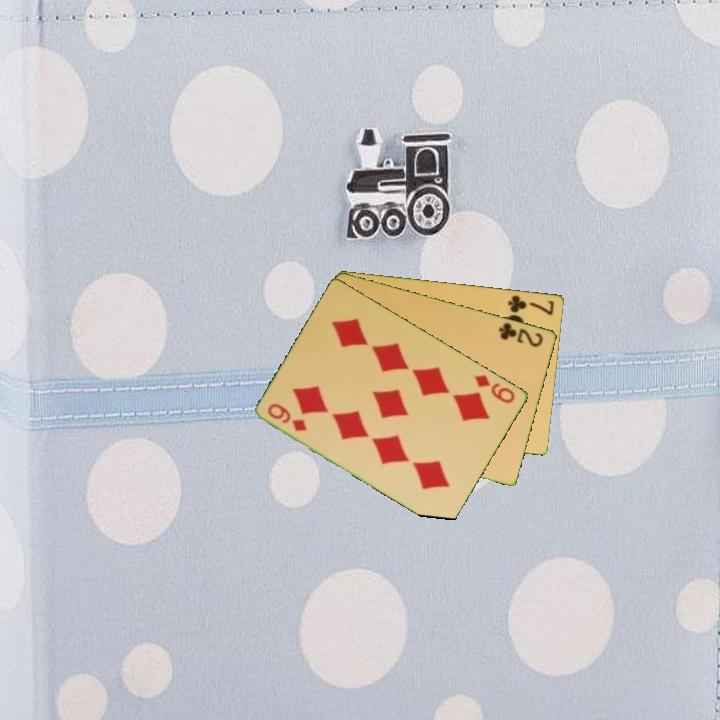2c: (496, 319, 546, 350)
7c: (505, 292, 557, 318)
9d: (471, 371, 518, 406), (264, 399, 310, 434)
